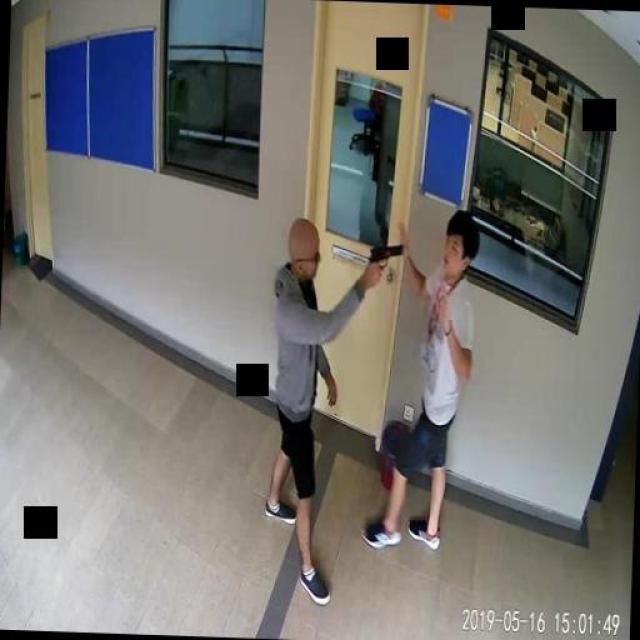gun: (366, 242, 400, 282)
